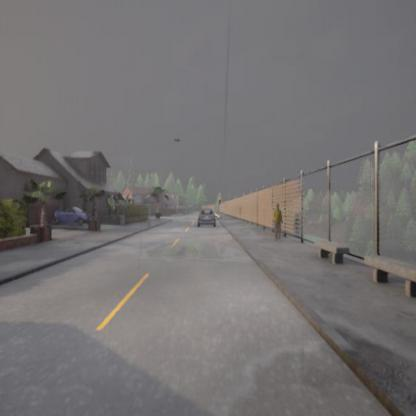person: (271, 204, 282, 242)
vehicle: (53, 207, 89, 225), (198, 209, 217, 226)
